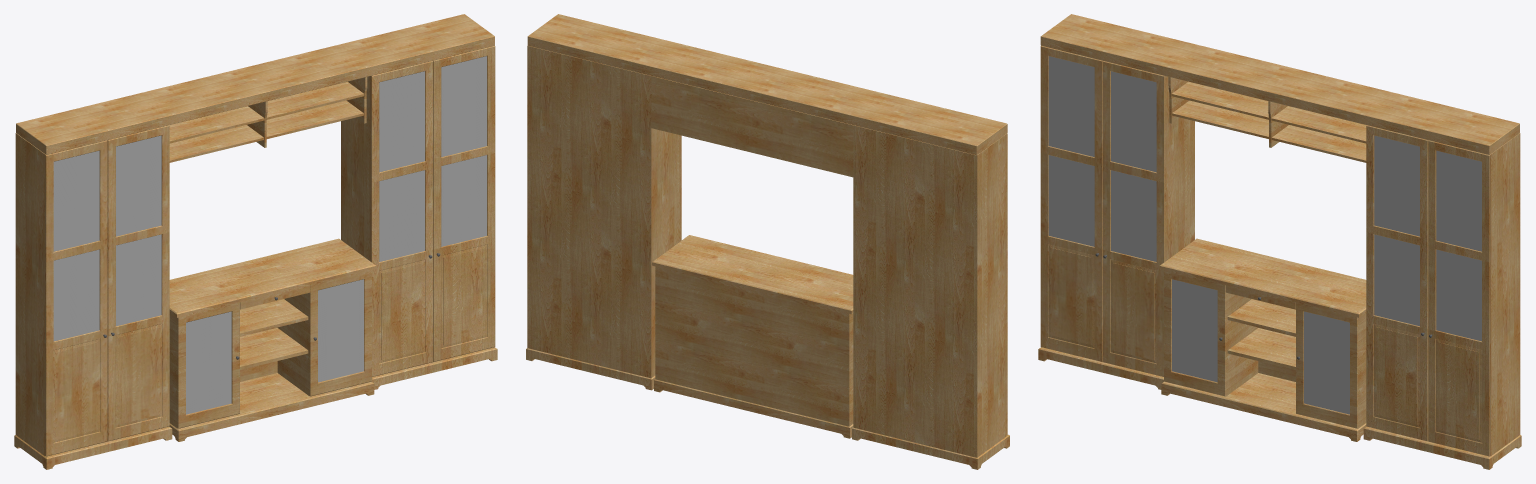
File: sweethome3d-scopia-bookcase.glb
3 renders of one model, left to right at view 1: azimuth 30°, elevation 25°; view 2: azimuth 150°, elevation 25°; view 3: azimuth 330°, elevation 25°, orthographic.
Parts seen in each view (by area): view 1: left_doors_Cube.005_white_wood_butcherblock_tile, right_doors_Cube.002_white_wood_butcherblock_tile, principal_Cube_white_wood_butcherblock_tile, top_Cube.007_white_wood_butcherblock_tile, glasses_doorL_Cube.009_glass.001, glasses_doorR_Cube.010_glass.001, glases_Cube.006_glass.001, shelves_Cube.008_white_wood_butcherblock_tile; view 2: left_doors_Cube.005_white_wood_butcherblock_tile, right_doors_Cube.002_white_wood_butcherblock_tile, principal_Cube_white_wood_butcherblock_tile, top_Cube.007_white_wood_butcherblock_tile, shelves_Cube.008_white_wood_butcherblock_tile; view 3: right_doors_Cube.002_white_wood_butcherblock_tile, left_doors_Cube.005_white_wood_butcherblock_tile, principal_Cube_white_wood_butcherblock_tile, top_Cube.007_white_wood_butcherblock_tile, glasses_doorL_Cube.009_glass.001, glasses_doorR_Cube.010_glass.001, glases_Cube.006_glass.001, shelves_Cube.008_white_wood_butcherblock_tile.
Boxes of the visible parts, x1,y1,x2,y2 form: left_doors_Cube.005_white_wood_butcherblock_tile: (14, 125, 172, 469); right_doors_Cube.002_white_wood_butcherblock_tile: (341, 45, 497, 389); principal_Cube_white_wood_butcherblock_tile: (169, 238, 376, 441); top_Cube.007_white_wood_butcherblock_tile: (16, 14, 494, 154); glasses_doorL_Cube.009_glass.001: (53, 135, 161, 341); glasses_doorR_Cube.010_glass.001: (379, 56, 486, 261); glases_Cube.006_glass.001: (186, 279, 363, 414); shelves_Cube.008_white_wood_butcherblock_tile: (169, 77, 367, 162); left_doors_Cube.005_white_wood_butcherblock_tile: (852, 125, 1009, 469); right_doors_Cube.002_white_wood_butcherblock_tile: (526, 45, 681, 390); principal_Cube_white_wood_butcherblock_tile: (652, 235, 853, 438); top_Cube.007_white_wood_butcherblock_tile: (527, 14, 1007, 155); shelves_Cube.008_white_wood_butcherblock_tile: (651, 76, 853, 177); right_doors_Cube.002_white_wood_butcherblock_tile: (1363, 125, 1521, 469); left_doors_Cube.005_white_wood_butcherblock_tile: (1038, 46, 1194, 389); principal_Cube_white_wood_butcherblock_tile: (1159, 238, 1366, 441); top_Cube.007_white_wood_butcherblock_tile: (1040, 14, 1519, 154); glasses_doorL_Cube.009_glass.001: (1048, 56, 1156, 261); glasses_doorR_Cube.010_glass.001: (1374, 135, 1481, 341); glases_Cube.006_glass.001: (1172, 279, 1349, 414); shelves_Cube.008_white_wood_butcherblock_tile: (1168, 77, 1366, 162).
Bounding box in the file's own units: 301 × 206 × 42.95.
Materials: 3 (1 with a texture image).
